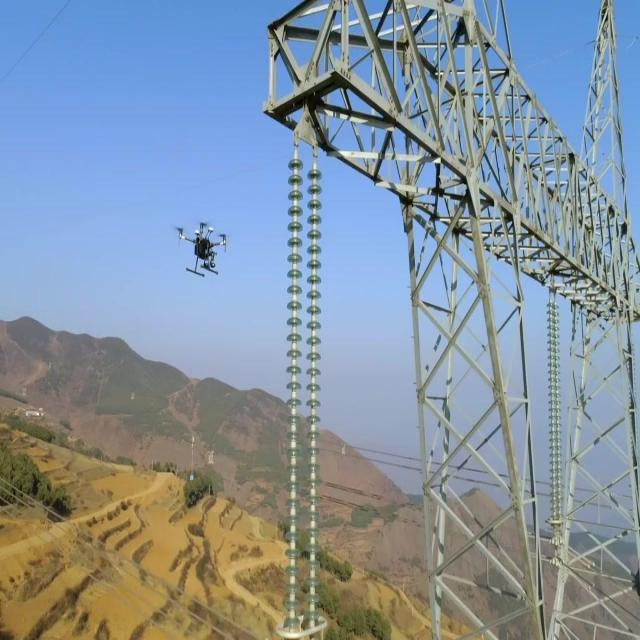drone: (176, 218, 229, 282)
